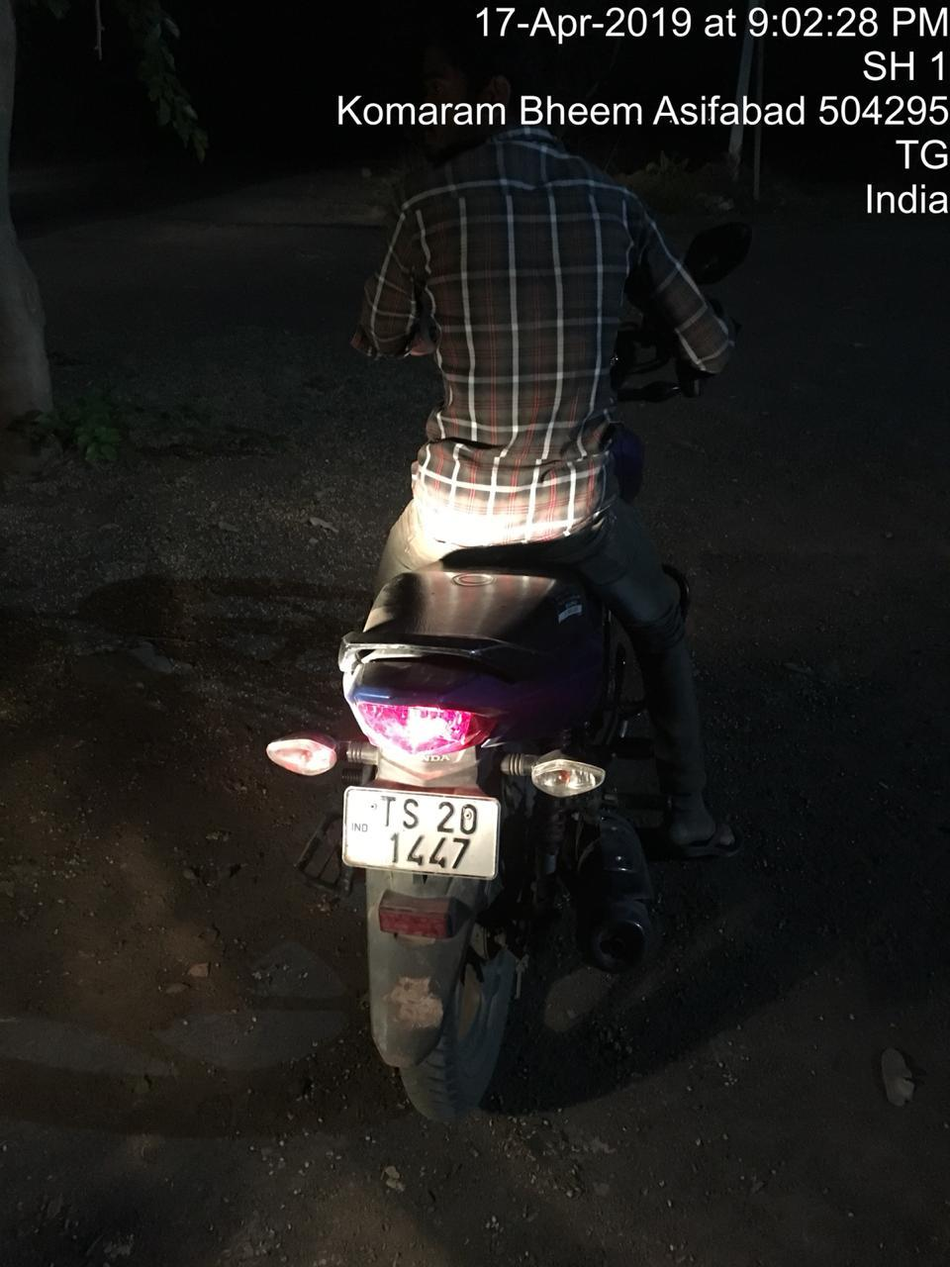plate: (311, 768, 524, 902)
